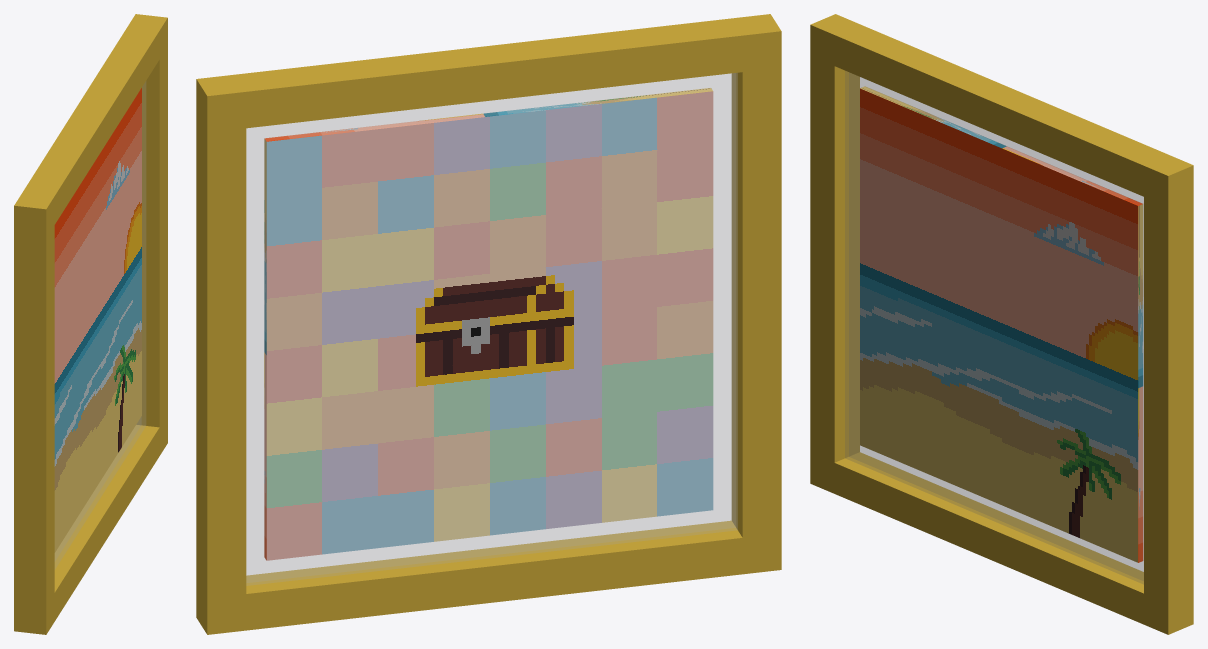
File: Solset3D_base.glb
3 renders of one model, left to right at view 1: azimuth 30°, elevation 25°; view 2: azimuth 150°, elevation 25°; view 3: azimuth 270°, elevation 25°, orthographic. The views are drawn at different scales.
Parts seen in each view (by area): view 1: Circle, Cube, Cube.001; view 2: Cube, Circle, Cube.001; view 3: Cube, Circle, Cube.001.
Boxes of the visible parts, x1,y1,x2,y2 form: Circle: (14,14,167,634); Cube: (54,88,141,552); Cube.001: (55,82,145,568); Cube: (264,88,713,560); Circle: (196,14,781,634); Cube.001: (246,73,737,585); Cube: (860,86,1143,562); Circle: (810,14,1193,634); Cube.001: (845,71,1143,583).
Size of the model in its own units: 2.14 by 2.83 by 2.14.
Materials: 4 (2 with a texture image).
